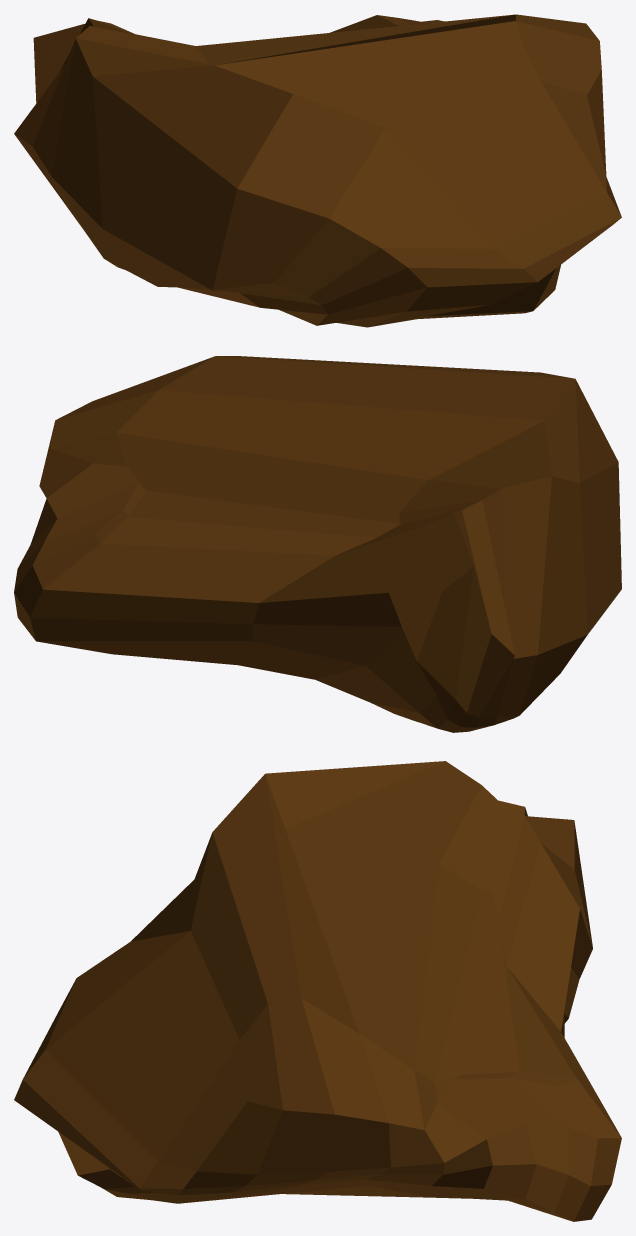
File: Rock_F.fbx
3 renders of one model, top to bottom at view 1: azimuth 30°, elevation 25°; view 2: azimuth 150°, elevation 25°; view 3: azimuth 270°, elevation 25°, orthographic. The views are drawn at different scales.
Visible parts, largest first — view 1: Rock_F; view 2: Rock_F; view 3: Rock_F.
Boxes of the visible parts, bbox=[...] form: Rock_F: bbox=[14, 14, 621, 327]; Rock_F: bbox=[14, 356, 621, 732]; Rock_F: bbox=[14, 761, 621, 1221].
Bounding box in the file's own units: 2.36 × 2.21 × 1.18.
